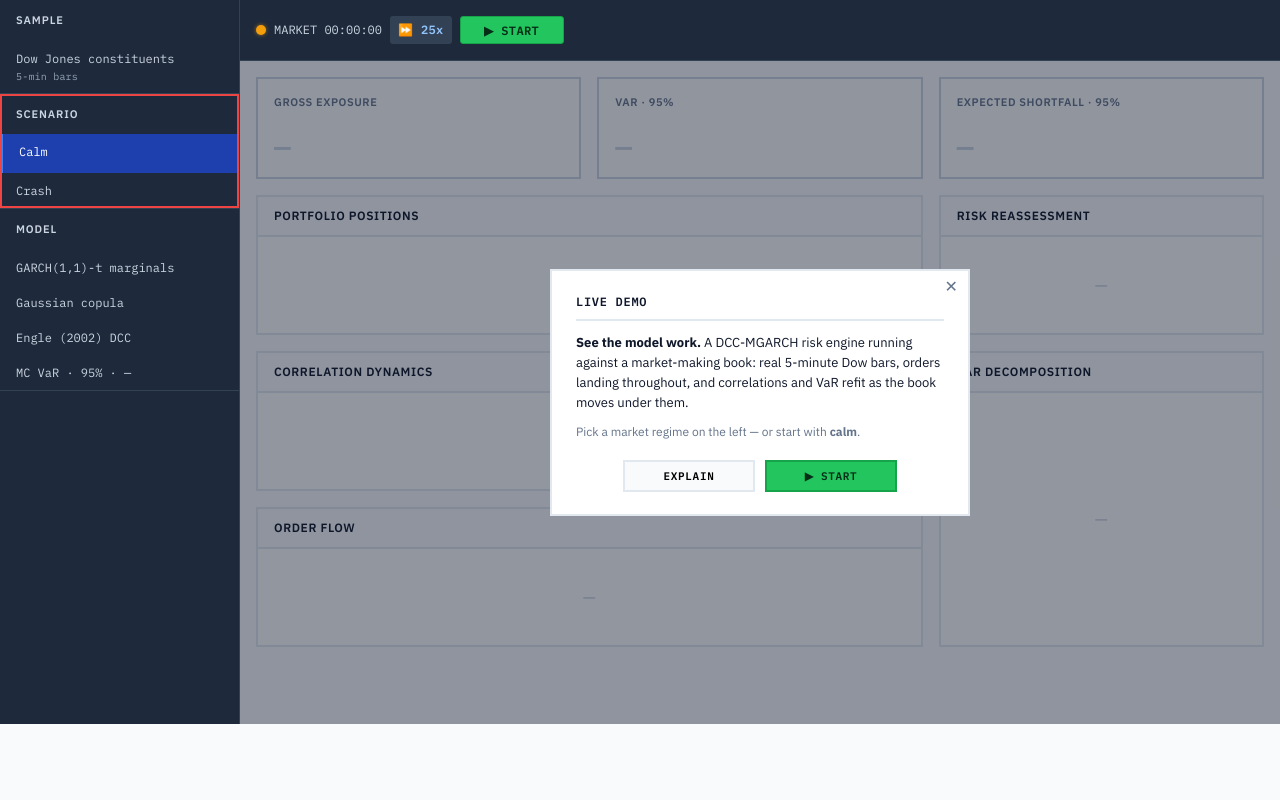
it: TerminalDesk › reports a failed load instead of sitting on an empty frame
Click the button "▶ START" below "See the model work.": coordinates (831, 476) [765,460,897,492]
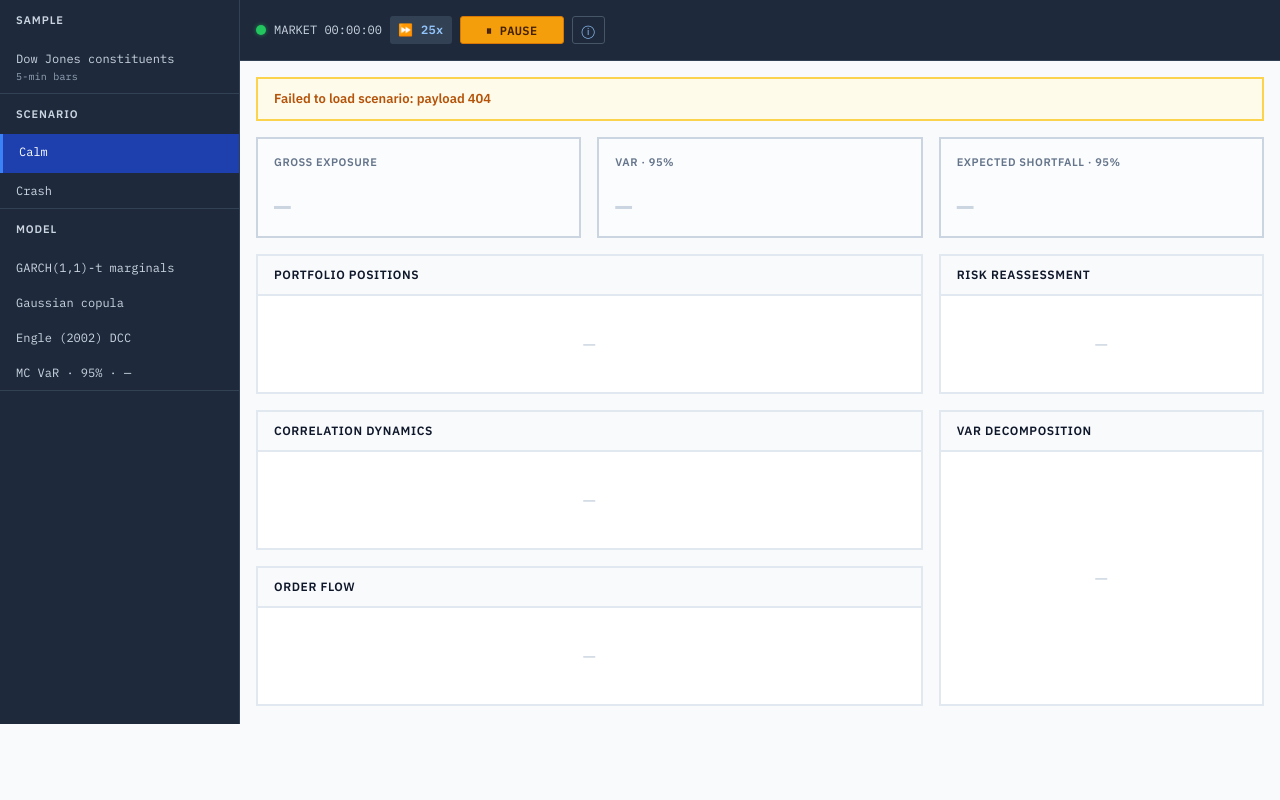
Result: the text "Failed to load scenario: payload 404" is shown at [256,77,1264,120]
